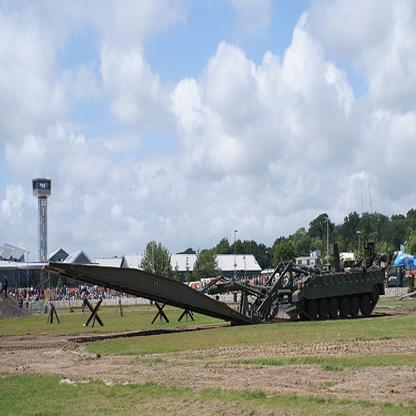Tank: (287, 243, 390, 327)
